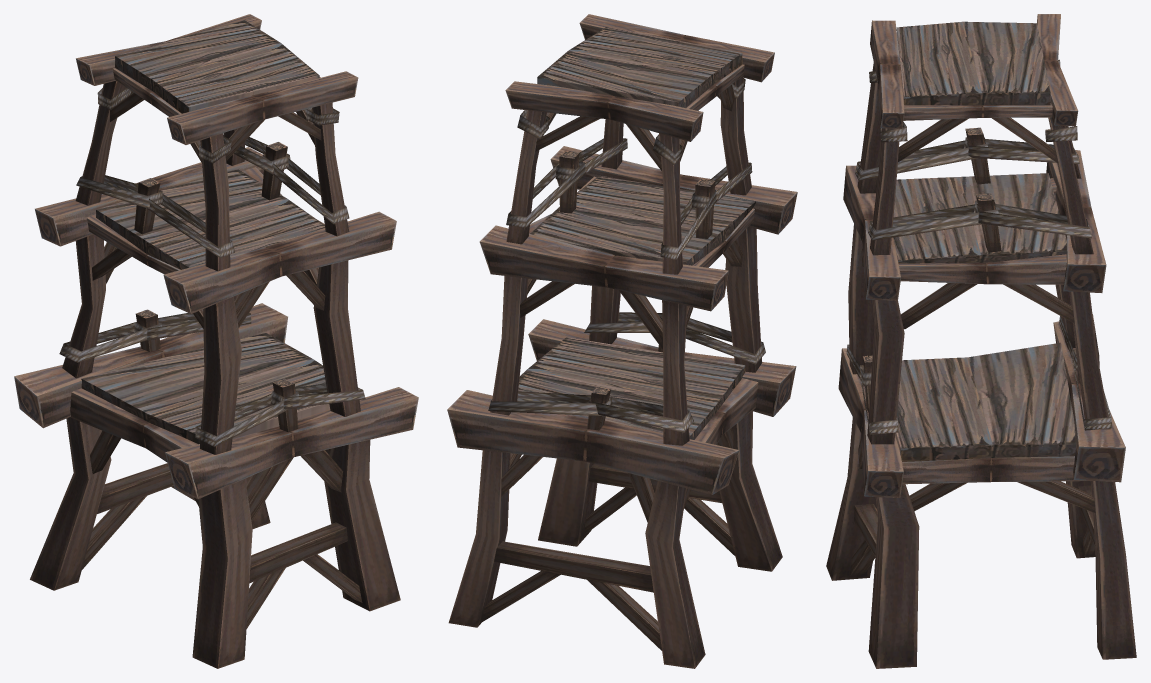
The model's file is object_minetower.fbx.
3 views of the same model, side by side, from view 1: azimuth 30°, elevation 25°; view 2: azimuth 150°, elevation 25°; view 3: azimuth 270°, elevation 25° (orthographic). The views are drawn at different scales.
Parts seen in each view (by area): view 1: object_minetower-0; view 2: object_minetower-0; view 3: object_minetower-0.
Part boxes in pixels (x1,y1,x2,y2): object_minetower-0: (14, 14, 418, 668); object_minetower-0: (447, 14, 797, 668); object_minetower-0: (826, 14, 1136, 668).
Bounding box in the file's own units: 4.91 × 8.65 × 4.44.
